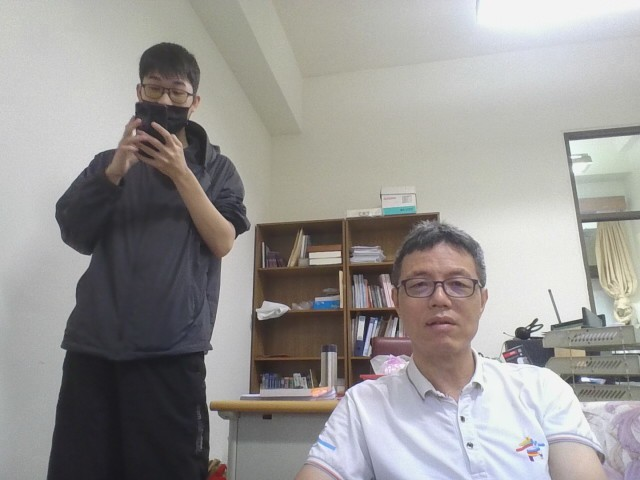No_Gloves: (103, 113, 153, 184), (133, 119, 189, 181)
No_Helmet: (387, 216, 492, 372), (132, 38, 203, 115)
person: (25, 29, 257, 480), (266, 197, 631, 480)
